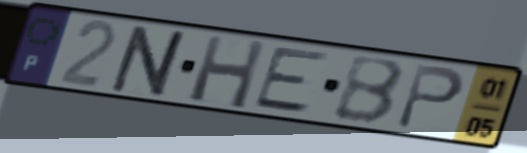2: (55, 19, 121, 91)
B: (330, 55, 408, 127)
E: (249, 45, 334, 116)
H: (185, 33, 269, 113)
N: (105, 23, 195, 101)
P: (392, 62, 468, 132)
